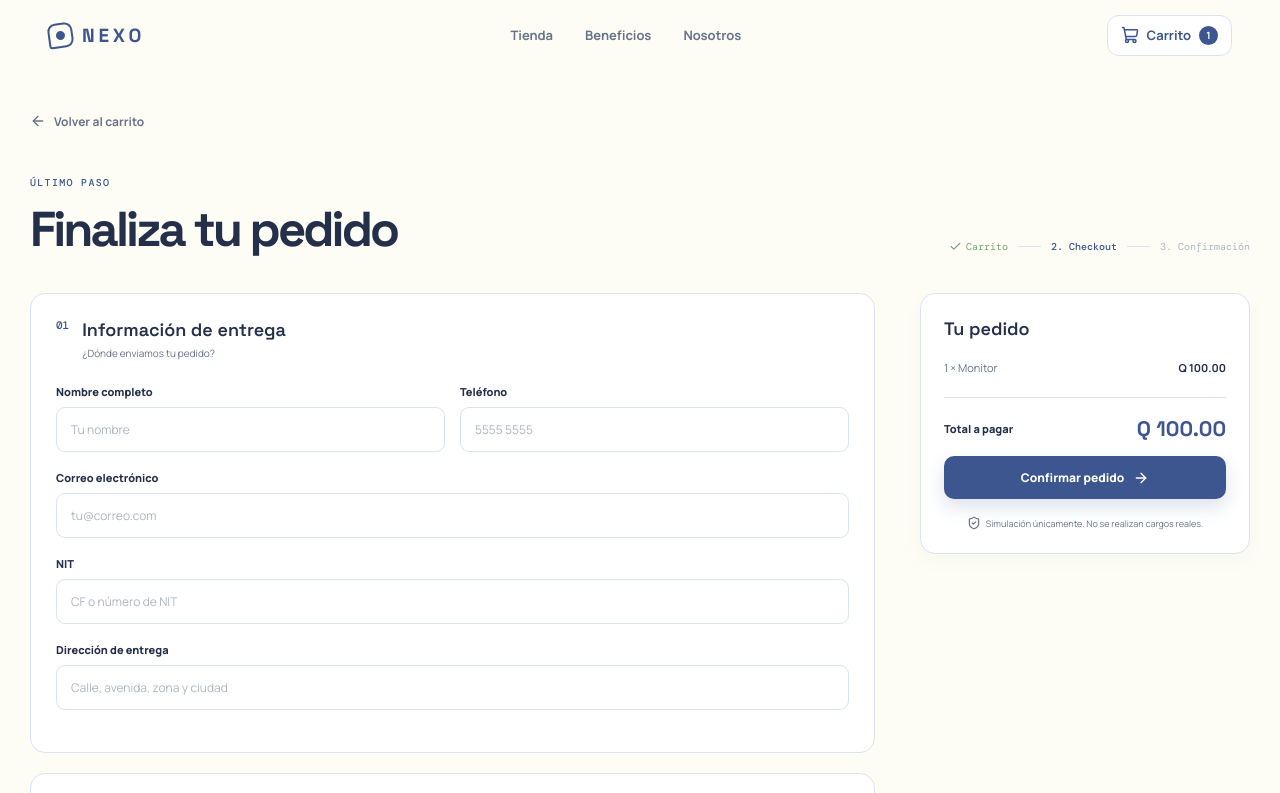
checkout del flujo administrativo heredado › permite corregir el total después de un conflicto que no dejó un pedido guardado
In the field labelled "Nombre completo": (250, 430) 56,407 -> 445,452, type "Cliente Demo"
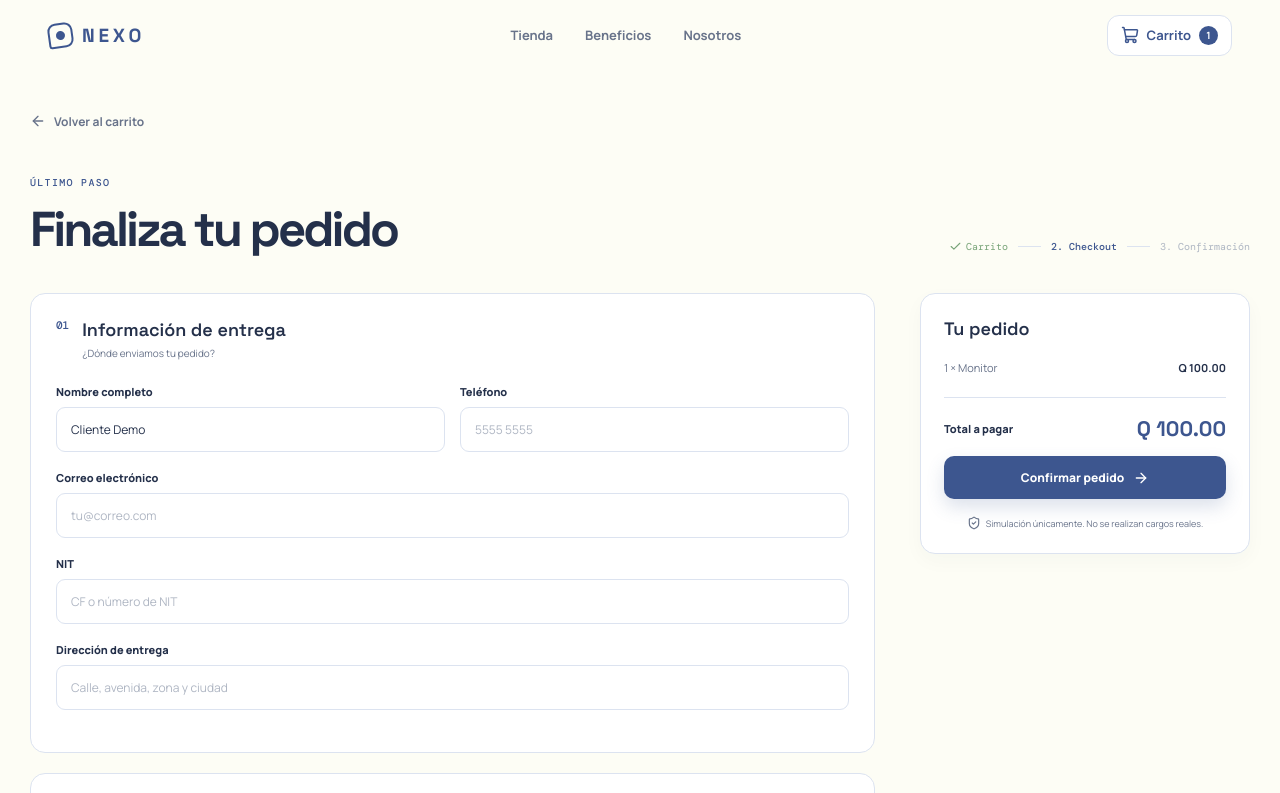
In the field labelled "Correo electrónico": (452, 516) 56,493 -> 849,538, type "cliente@example.test"
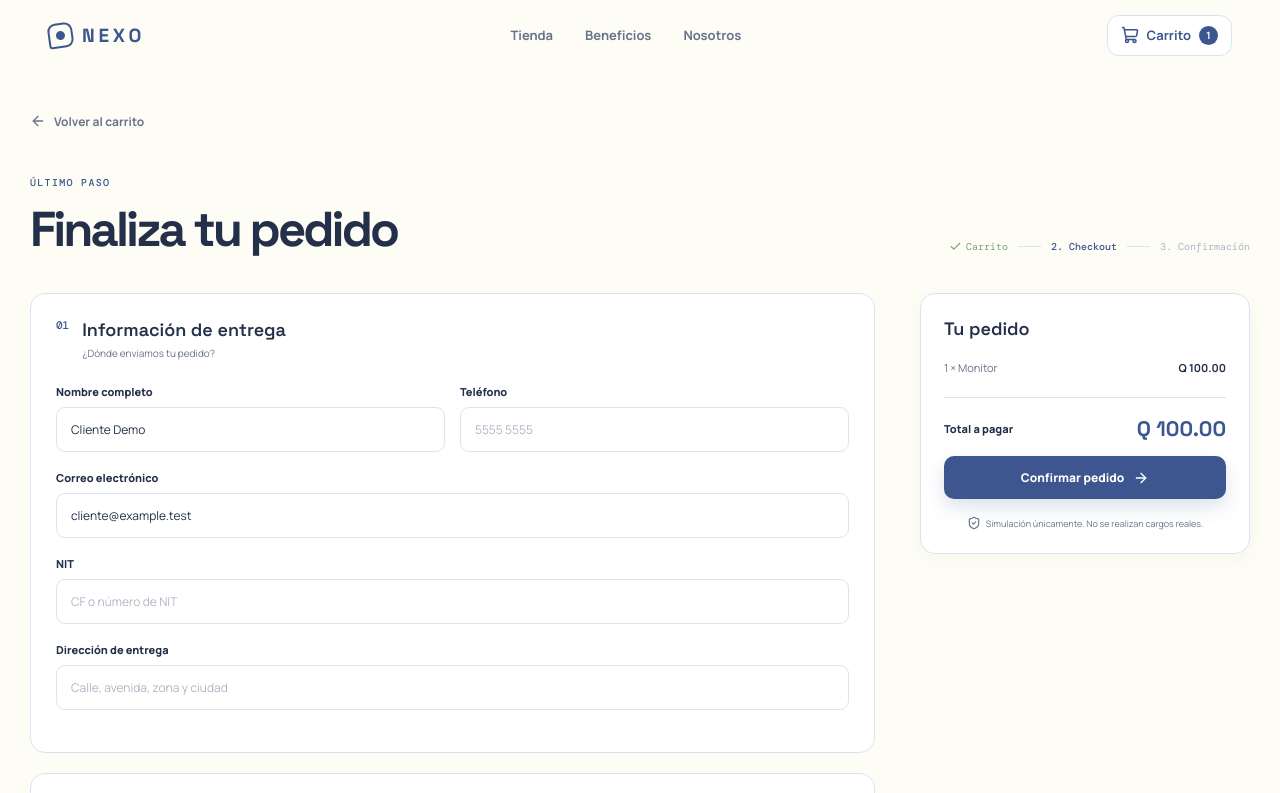
In the field labelled "NIT": (452, 602) 56,579 -> 849,624, type "CF"
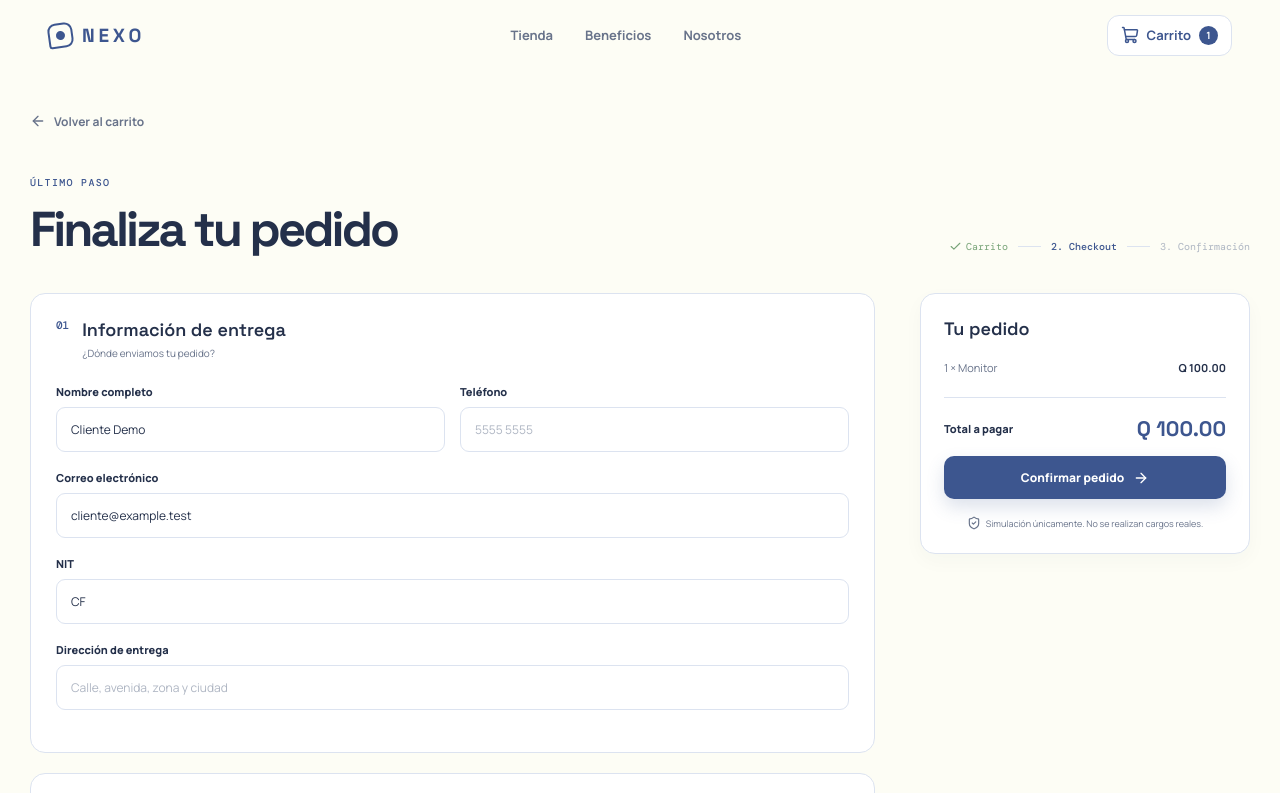
In the field labelled "Teléfono": (654, 430) 460,407 -> 849,452, type "5555-0101"
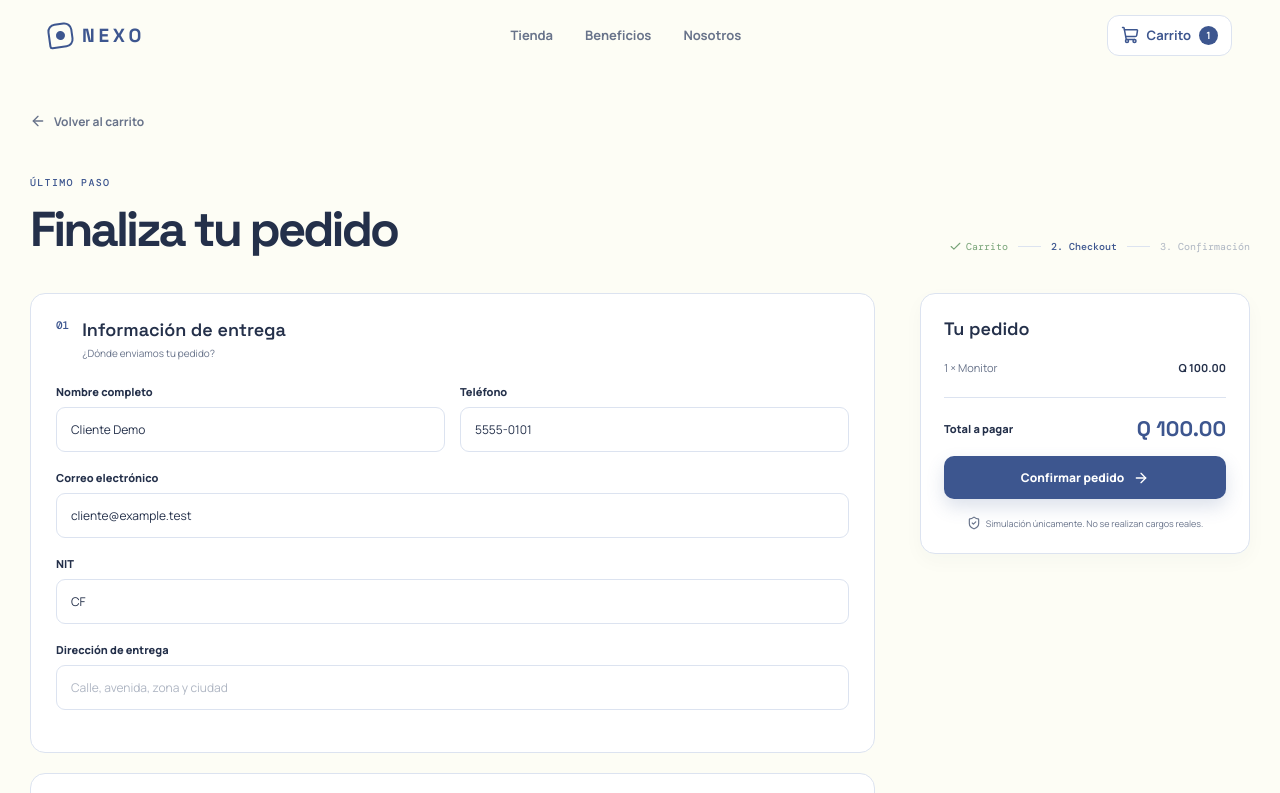
In the field labelled "Dirección de entrega": (452, 688) 56,665 -> 849,710, type "Zona 1, Guatemala"
(page scrolled)
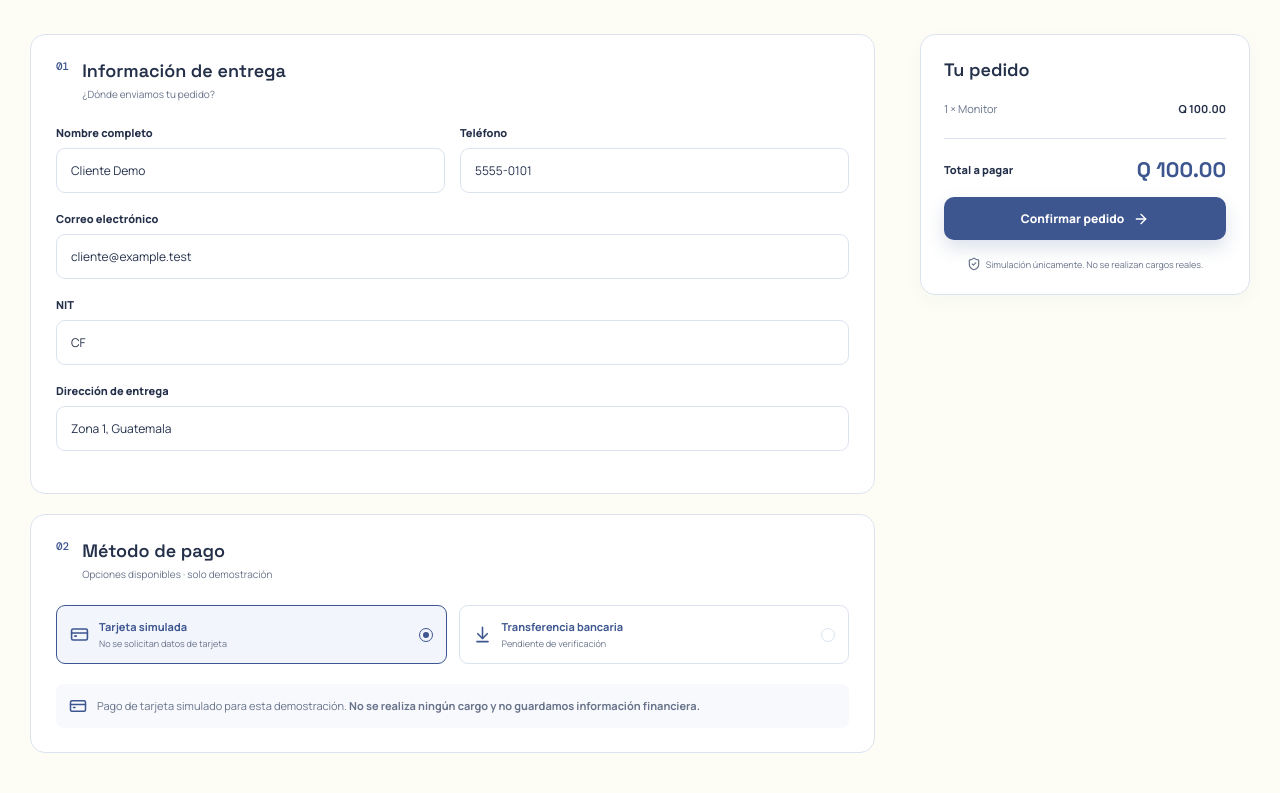
Submit the form named "Confirmar pedido"
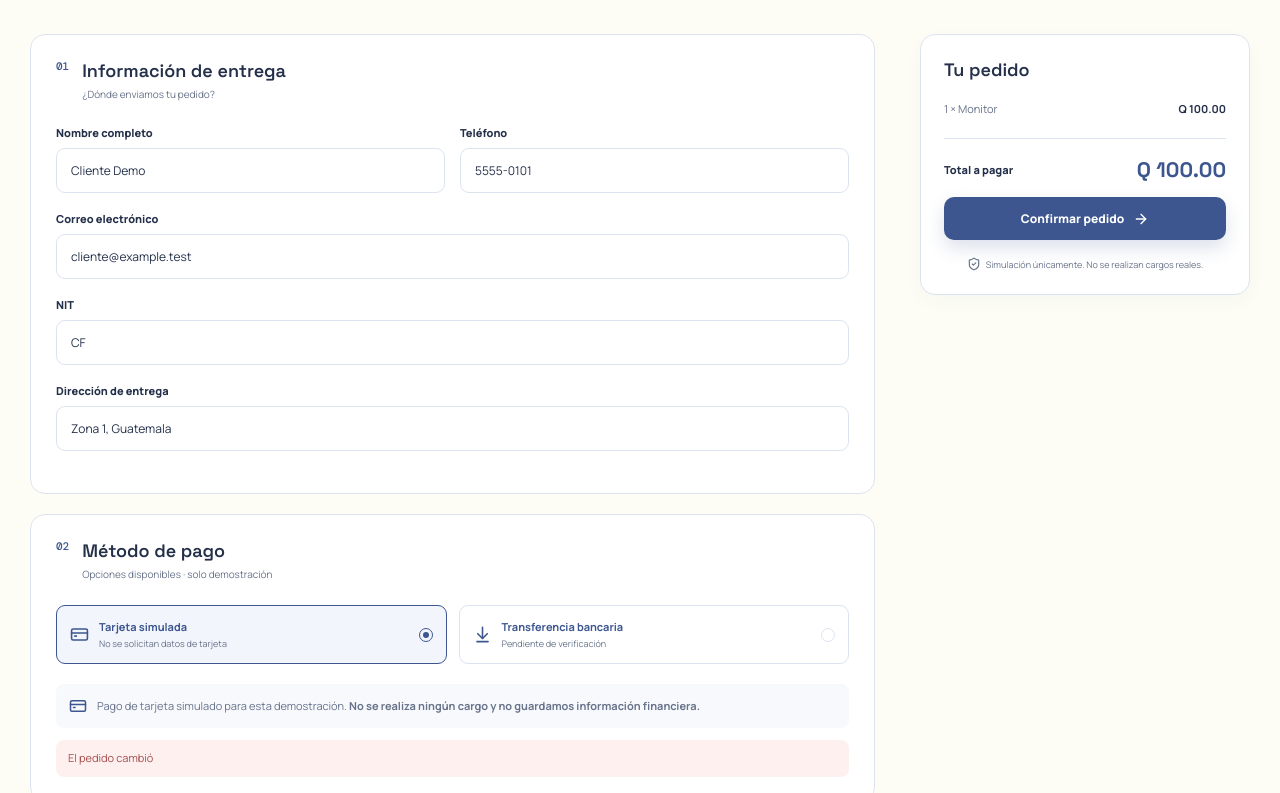
Now the message reads "El pedido cambió", box 68,750 -> 153,765
